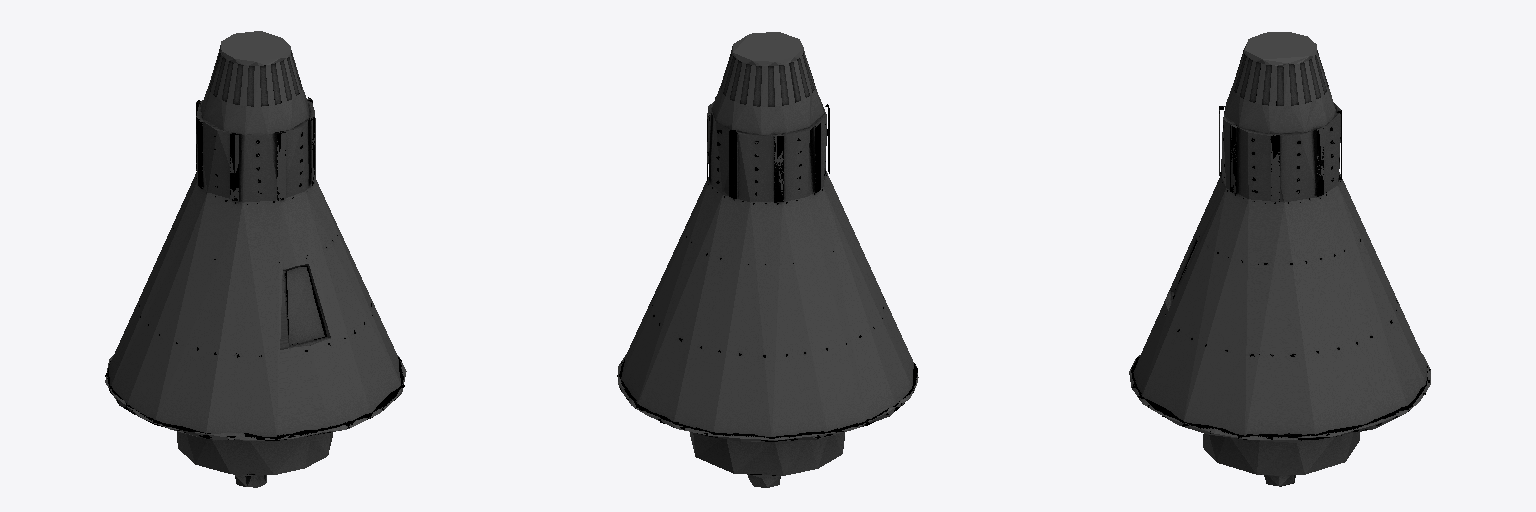
3 renders of one model, left to right at view 1: azimuth 30°, elevation 25°; view 2: azimuth 150°, elevation 25°; view 3: azimuth 270°, elevation 25°, orthographic.
Parts seen in each view (by area): view 1: group58_g1; view 2: group58_g1; view 3: group58_g1.
Part boxes in pixels (x1,y1,x2,y2): group58_g1: (105, 31, 406, 487); group58_g1: (617, 32, 918, 487); group58_g1: (1129, 32, 1430, 486).
Size of the model in its own units: 5.97 by 9.2 by 6.
7 materials, 1 textured.